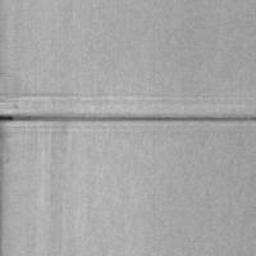Welding line: (0, 113, 256, 123)
